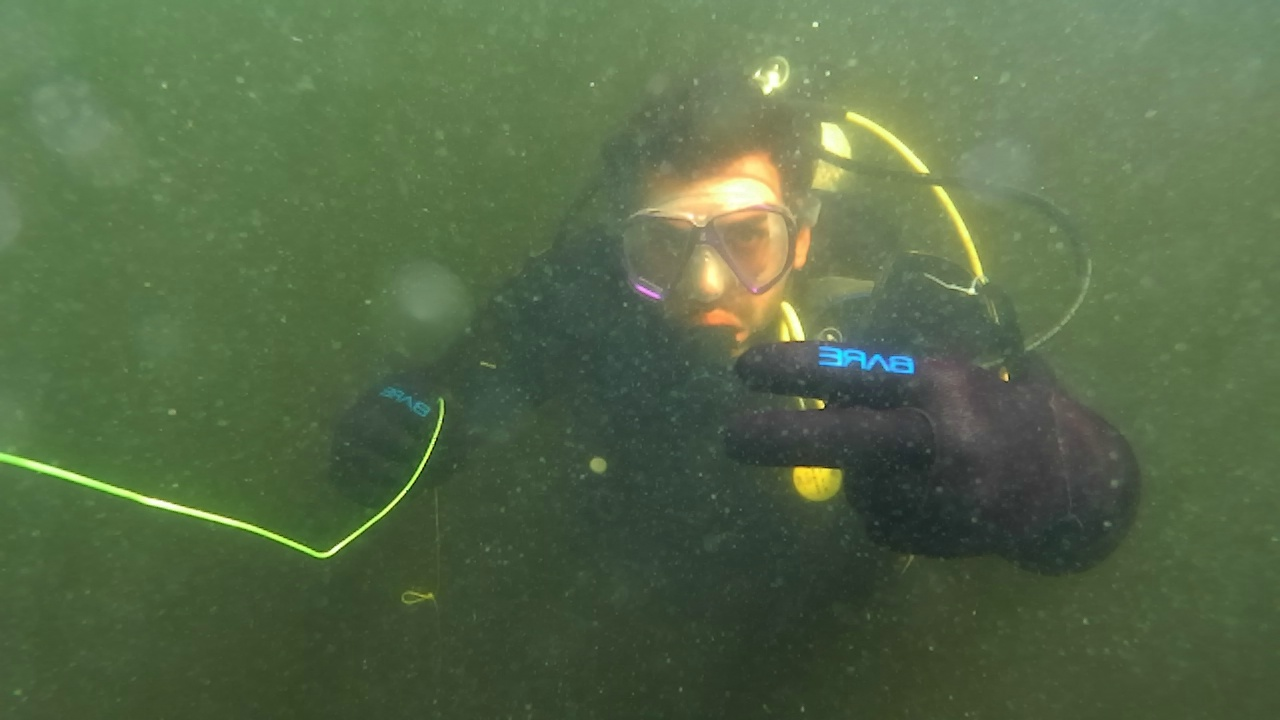Diver: (324, 60, 1152, 582)
Hand: (724, 320, 1148, 584), (324, 380, 474, 508)
Head: (600, 68, 830, 368)
